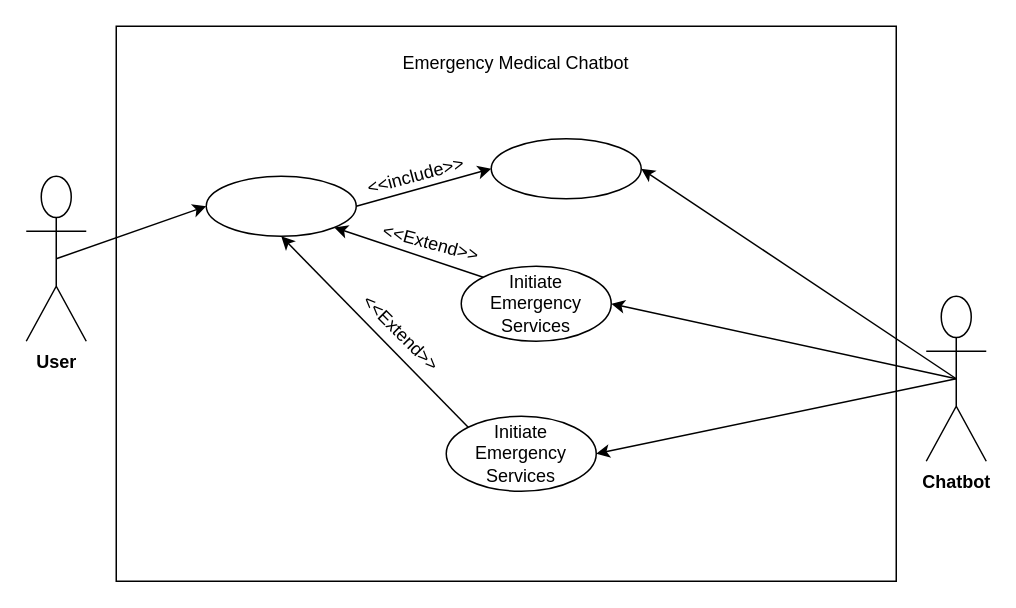
This 1016x608 diagram has some shape labels left out. Here are the shapes that lost their labels. From the top down, the centre of each, then its label:
At point (565, 168): "Provide Initial Support".
At point (280, 205): "Request Assistance".
